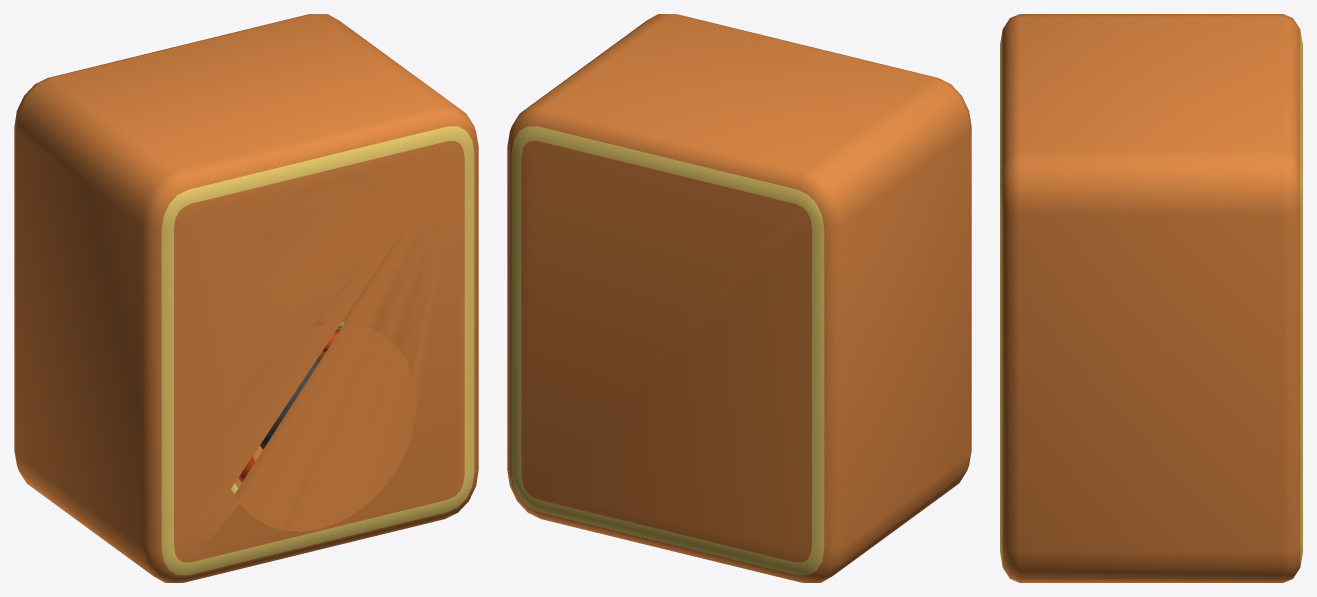
Rendered from Speaker.fbx.
The picture shows the model from 3 angles, left to right: view 1: azimuth 30°, elevation 25°; view 2: azimuth 150°, elevation 25°; view 3: azimuth 270°, elevation 25°; orthographic projection. The views are drawn at different scales.
Parts seen in each view (by area): view 1: Speaker; view 2: Speaker; view 3: Speaker.
Boxes of the visible parts, x1,y1,x2,y2 form: Speaker: [14, 14, 478, 582]; Speaker: [507, 14, 971, 582]; Speaker: [1000, 14, 1302, 582].
Size of the model in its own units: 146 by 173 by 110.
